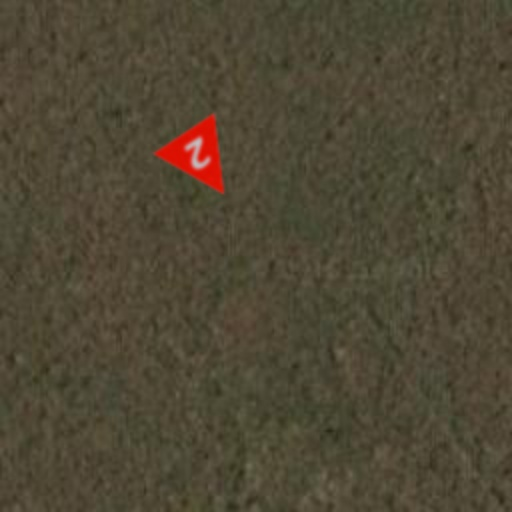triangle: (152, 112, 256, 216)
